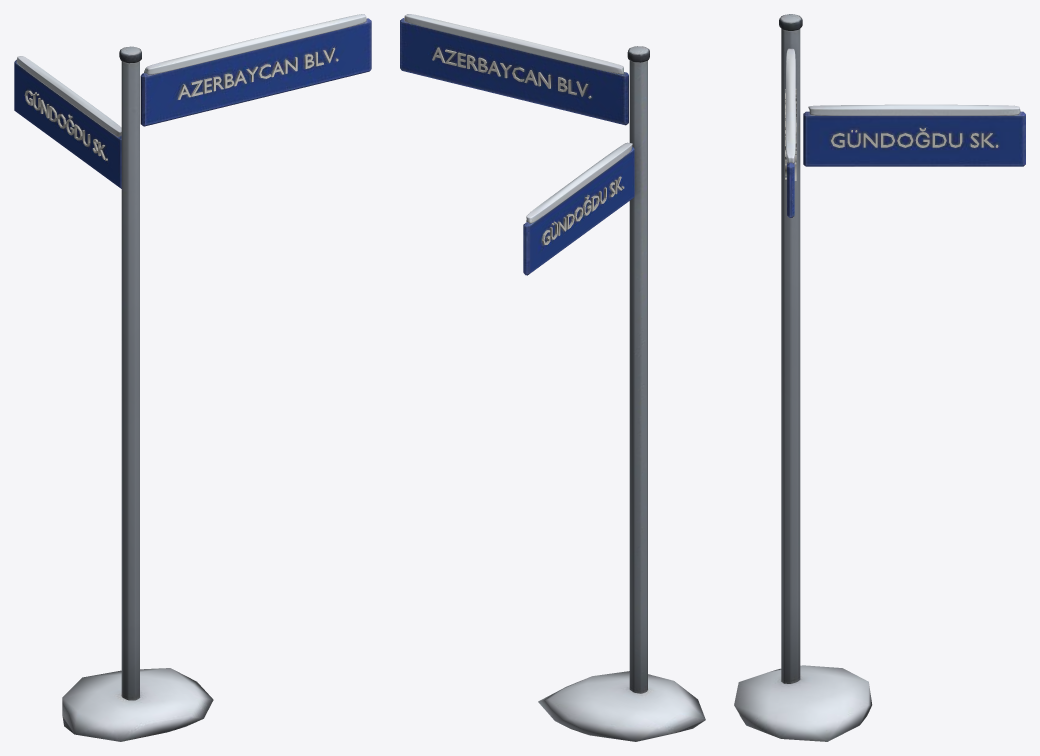
Rendered from sign_street.glb.
3 renders of one model, left to right at view 1: azimuth 30°, elevation 25°; view 2: azimuth 150°, elevation 25°; view 3: azimuth 270°, elevation 25°, orthographic. The views are drawn at different scales.
Parts seen in each view (by area): view 1: sign_street; view 2: sign_street; view 3: sign_street.
Boxes of the visible parts, x1=… form: sign_street: x1=14, y1=14, x2=371, y2=741; sign_street: x1=400, y1=14, x2=705, y2=741; sign_street: x1=734, y1=14, x2=1025, y2=741.
Bounding box in the file's own units: 1.45 × 3.04 × 1.18.
Materials: 1 (1 with a texture image).
